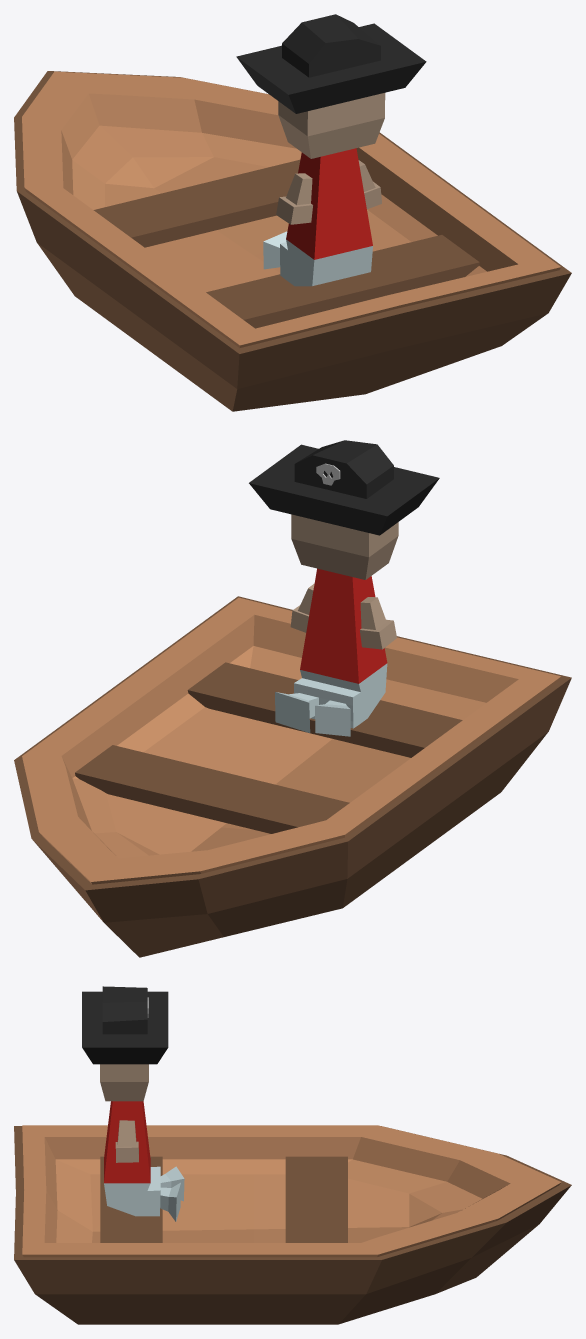
File: BoatW1Pirate.fbx
3 views of the same model, one above another, from view 1: azimuth 30°, elevation 25°; view 2: azimuth 150°, elevation 25°; view 3: azimuth 270°, elevation 25° (orthographic). The views are drawn at different scales.
Visible parts, largest first — view 1: Pirate; view 2: Pirate; view 3: Pirate.
Part boxes in pixels (left/top/right/bottom): Pirate: left=14, top=14, right=571, bottom=411; Pirate: left=14, top=440, right=571, bottom=957; Pirate: left=14, top=986, right=571, bottom=1324.
Bounding box in the file's own units: 317 × 317 × 558.
